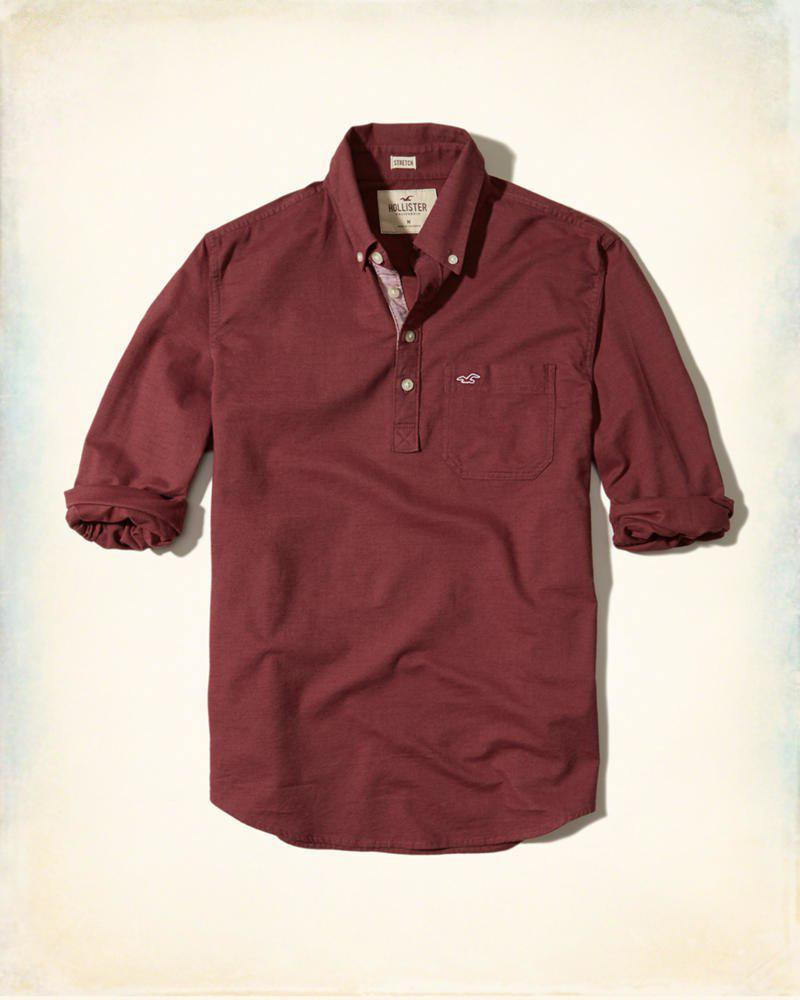teeshirt: (49, 119, 744, 863)
